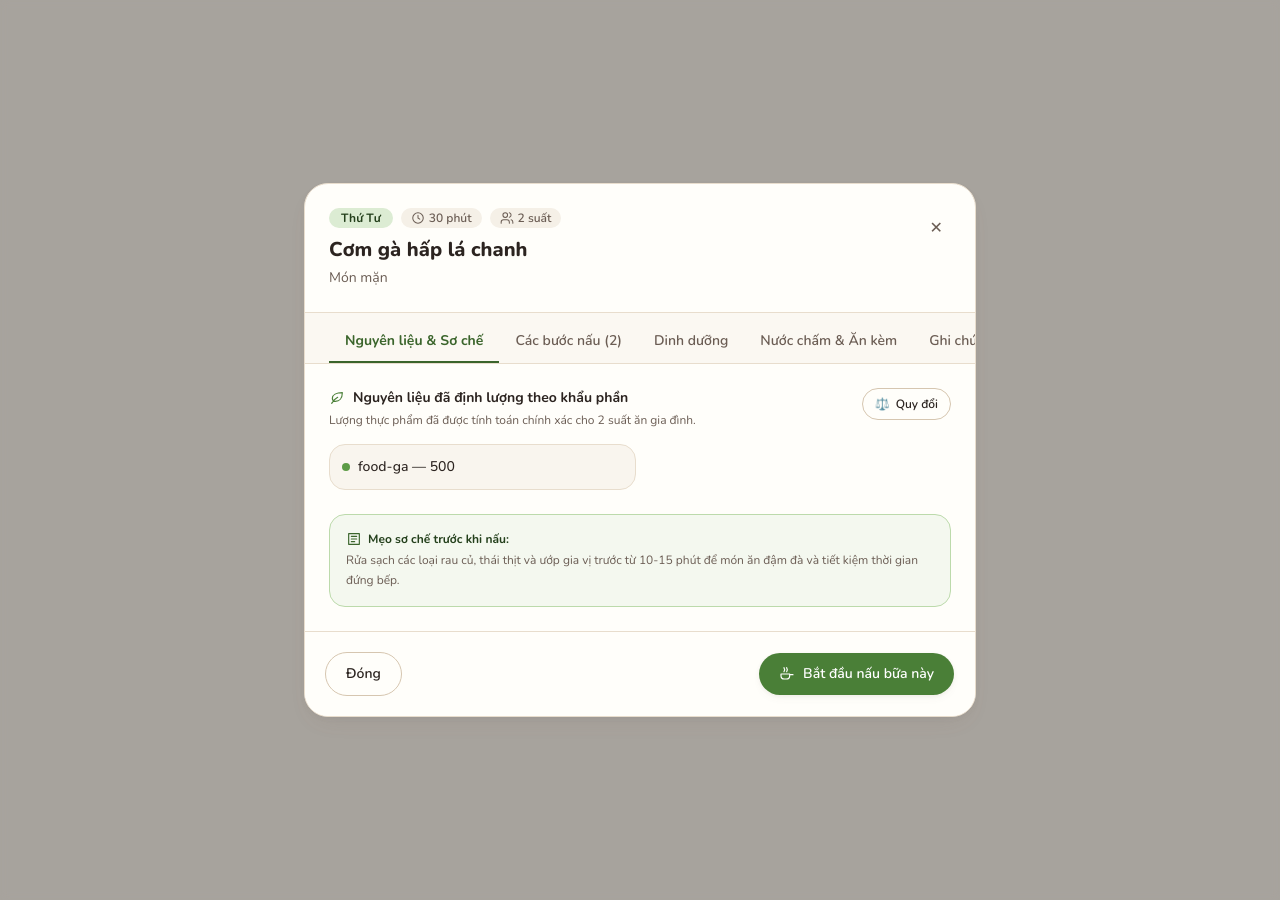
Test: RecipePreviewModal › opens kitchen measurement converter from ingredients tab and closes
Click the button with test id "preview-measurement-converter-btn": [906, 404] box [862,388,951,420]
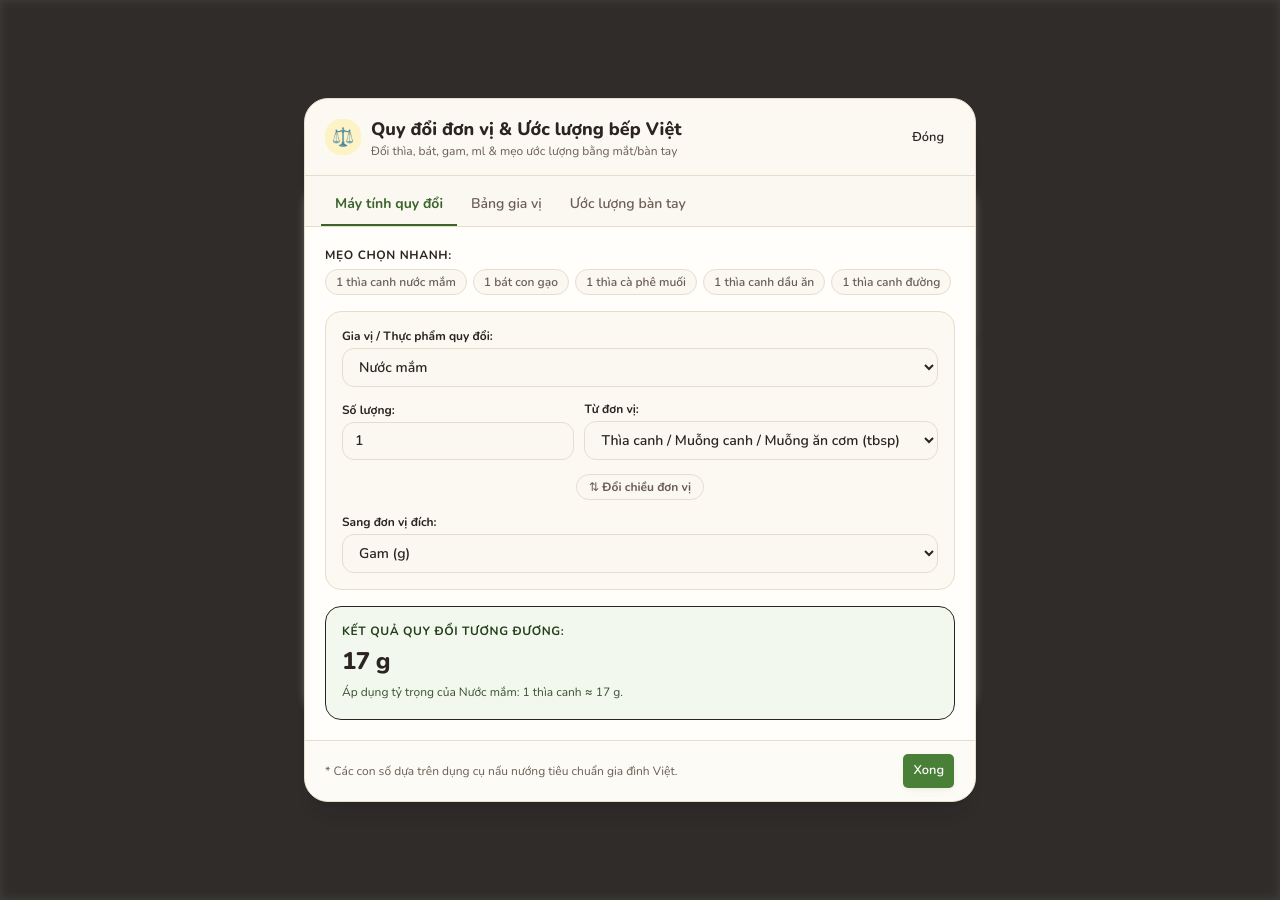
Check: the dialog with test id "kitchen-measurement-modal" is shown
Check: the heading "Quy đổi đơn vị & Ước lượng bếp Việt" is shown, box [371,115,682,143]
Note: Close the measurement modal
Click the button "Đóng": [928, 137] box [901,119,955,155]
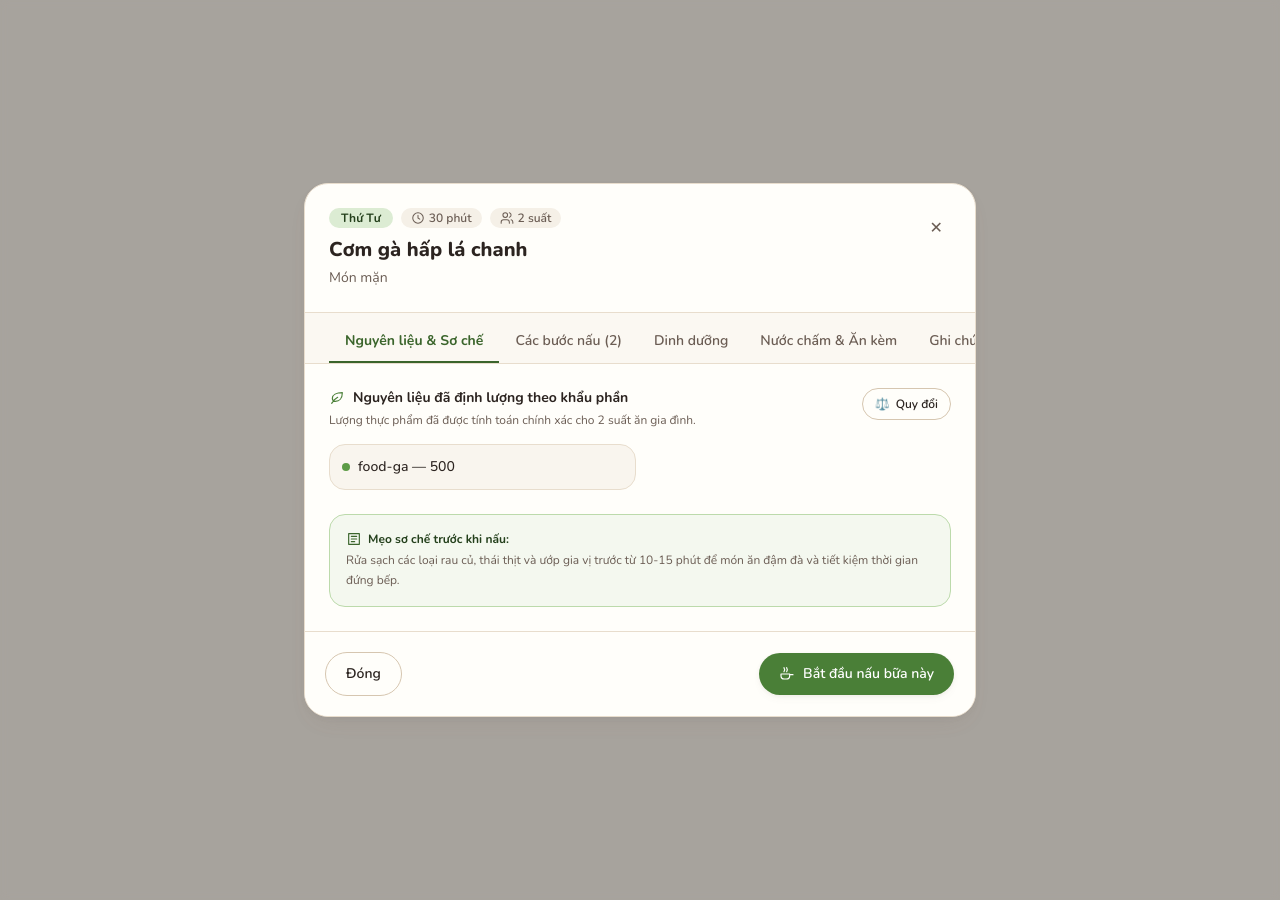
Check: the dialog with test id "kitchen-measurement-modal" is gone
